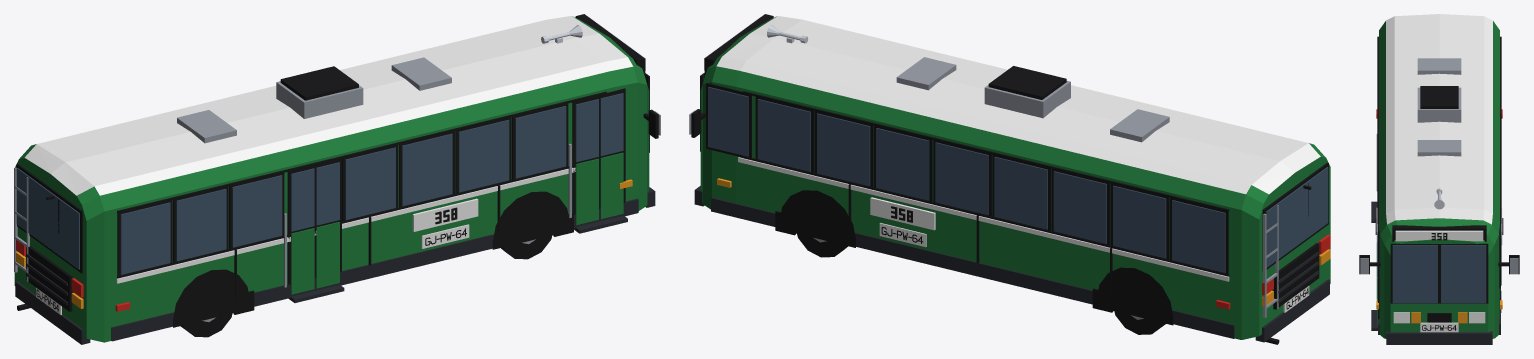
The model's file is micro_verde.obj.
3 views of the same model, side by side, from view 1: azimuth 30°, elevation 25°; view 2: azimuth 150°, elevation 25°; view 3: azimuth 270°, elevation 25° (orthographic). The views are drawn at different scales.
Visible parts, largest first — view 1: micro_verde; view 2: micro_verde; view 3: micro_verde.
Boxes of the visible parts, left/top/right/bottom form: micro_verde: left=14, top=14, right=660, bottom=344; micro_verde: left=689, top=14, right=1330, bottom=344; micro_verde: left=1359, top=14, right=1519, bottom=344.
Bounding box in the file's own units: 10.8 × 3.43 × 3.32.
